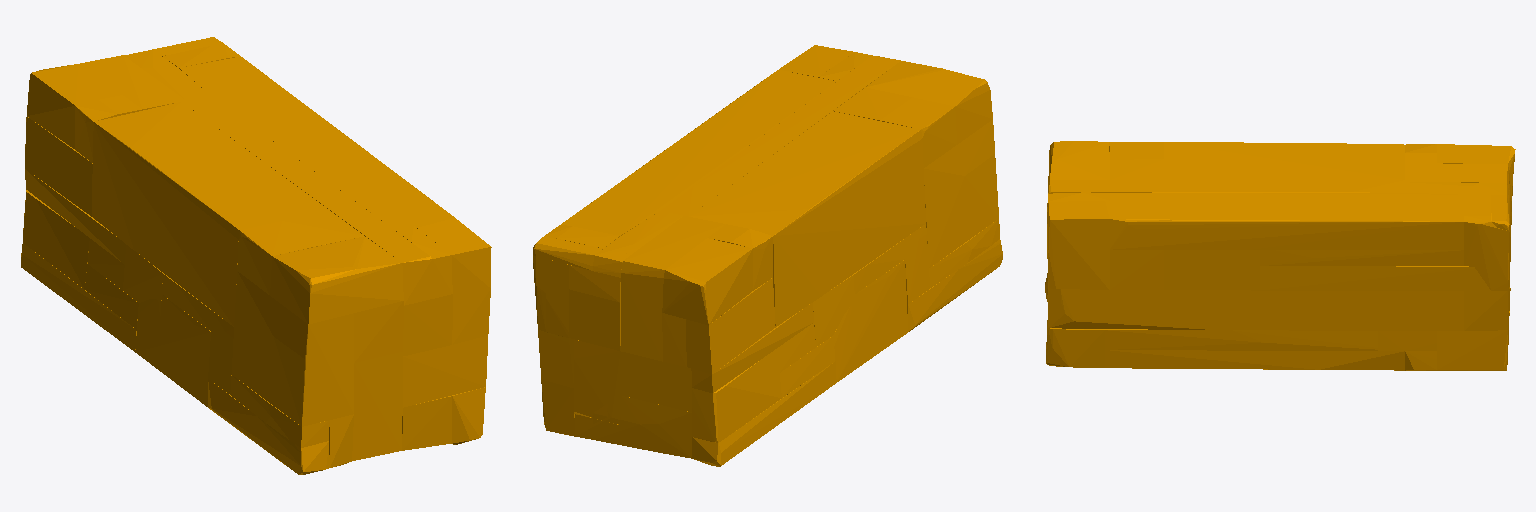
robot.urdf — box-bisolvon:
<?xml version="1.0" ?>
<robot name="box-bisolvon">
  <link name="baseLink">
    <contact>
      <lateral_friction value="1.0"/>
      <inertia_scaling value="3.0"/>
    </contact>
    <inertial>
      <origin rpy="0 0 0" xyz="0.000 0.000 0.000"/>
       <mass value=".1"/>
       <inertia ixx="1" ixy="0.0" ixz="0.0" iyy="1" iyz="0.0" izz="1"/>
    </inertial>
    <visual>
      <origin rpy="0 0 0" xyz="0 0 0"/>
      <geometry>
        <mesh filename="box/box-bisolvon_sirup.obj" scale="1.0 1.0 1.0"/>
      </geometry>
    </visual>
    <collision>
      <origin rpy="0 0 0" xyz="0 0 0"/>
      <geometry>
        <mesh filename="../collision/box/box-bisolvon_sirup.obj" scale="1.0 1.0 1.0"/>
      </geometry>
    </collision>
  </link>
</robot>
        

--- Facts derived from the render (not from the file) ---
The picture shows the robot from 3 angles, left to right: view 1: azimuth 30°, elevation 25°; view 2: azimuth 150°, elevation 25°; view 3: azimuth 270°, elevation 25°; orthographic projection.
Model box-bisolvon with 1 links and 0 joints (none), rooted at baseLink, posed every joint at zero.
Links seen in each view (by area): view 1: baseLink; view 2: baseLink; view 3: baseLink.
Link boxes in pixels (x1,y1,x2,y2): baseLink: (21,37,491,474); baseLink: (533,45,1002,466); baseLink: (1045,141,1515,370).
Size in the robot's own frame: 0.0697 by 0.1759 by 0.0665 metres.
1 mesh visuals loaded from 1 distinct referenced files (1 OBJ).